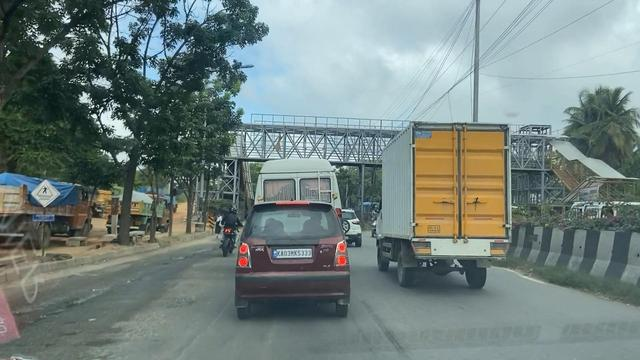HMV: (375, 125, 510, 288)
LMV: (238, 205, 347, 312), (222, 207, 239, 251)
RoadDamages: (38, 255, 195, 329), (178, 302, 229, 352), (349, 318, 392, 358)
